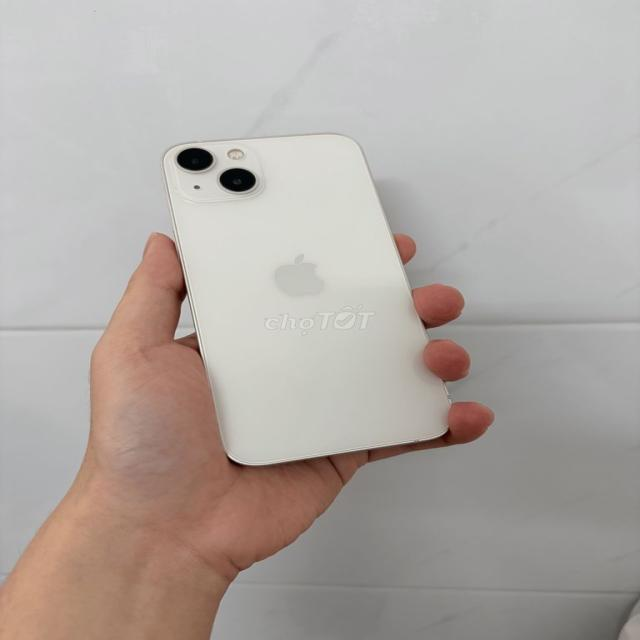gen_12_13: (150, 133, 460, 470)
